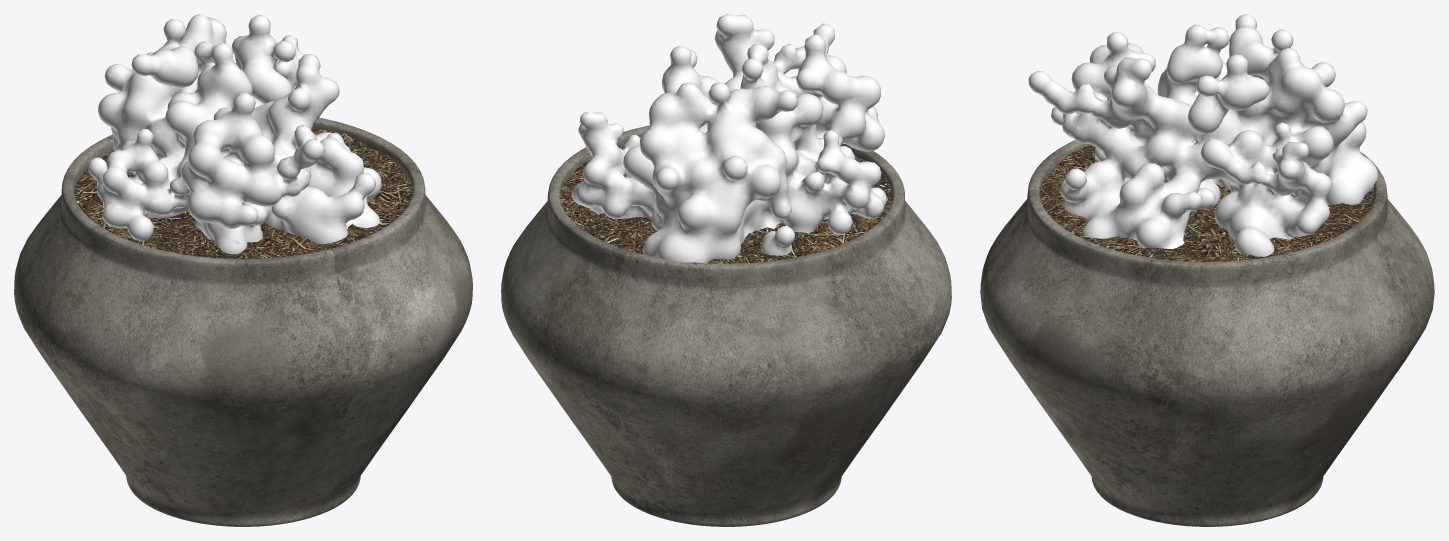
3 renders of one model, left to right at view 1: azimuth 30°, elevation 25°; view 2: azimuth 150°, elevation 25°; view 3: azimuth 270°, elevation 25°, orthographic.
Visible parts, largest first — view 1: Vases_vase_04; view 2: Vases_vase_04; view 3: Vases_vase_04.
Part boxes in pixels (x1,y1,x2,y2): Vases_vase_04: [14, 14, 472, 526]; Vases_vase_04: [501, 14, 951, 526]; Vases_vase_04: [980, 14, 1434, 526].
Bounding box in the file's own units: 0.0713 × 0.0764 × 0.0713.
Materials: 3 (2 with a texture image).
